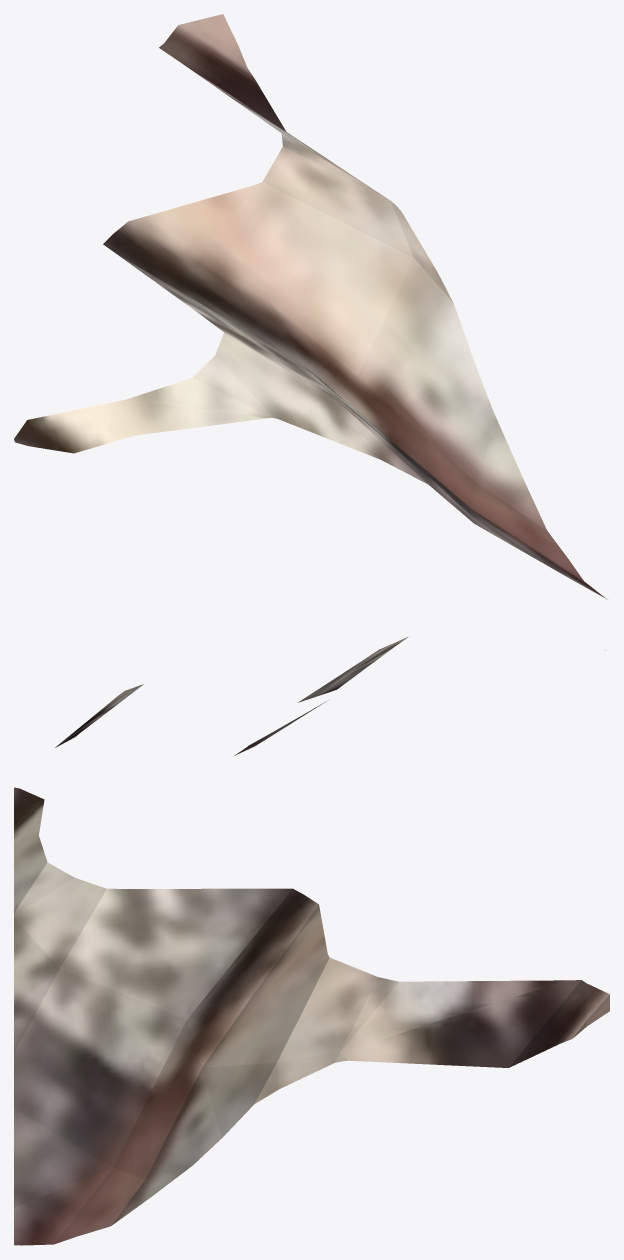
The picture shows the model from 3 angles, top to bottom: view 1: azimuth 30°, elevation 25°; view 2: azimuth 150°, elevation 25°; view 3: azimuth 270°, elevation 25°; orthographic projection. The views are drawn at different scales.
Size of the model in its own units: 0.2947 by 0.1439 by 0.3318.
1 material, 1 textured.
